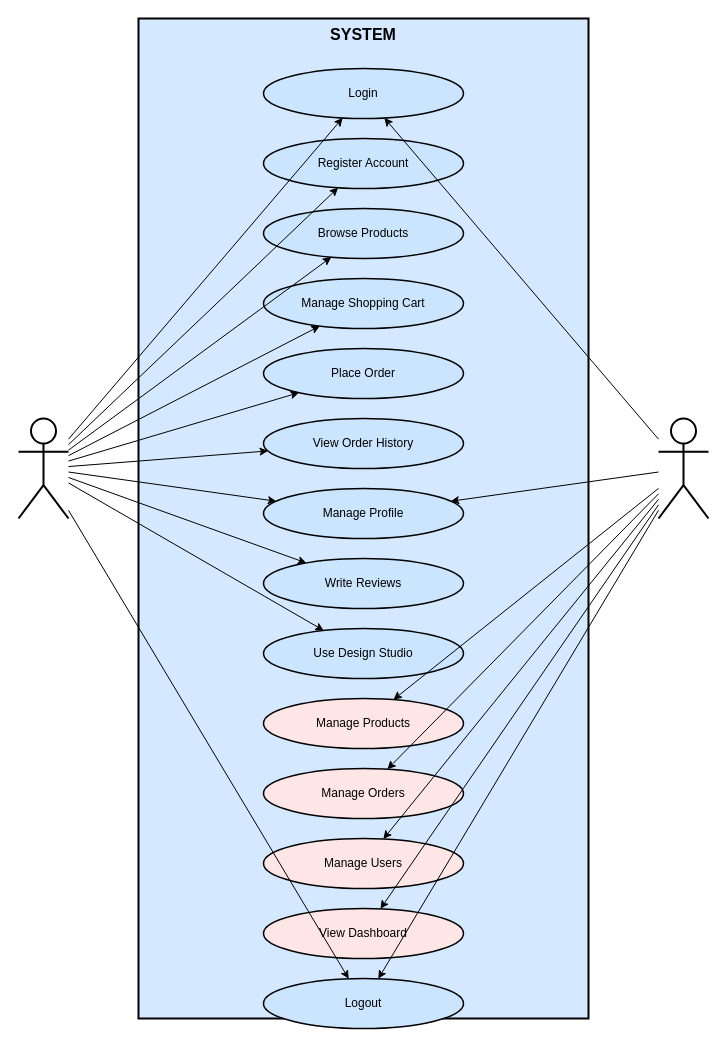
Some shapes in this 726 by 1046 pixel diagram are drawn without their labels. Each missing label, with the centre of its shape:
Admin: pixel 683 468
Customer: pixel 43 468
